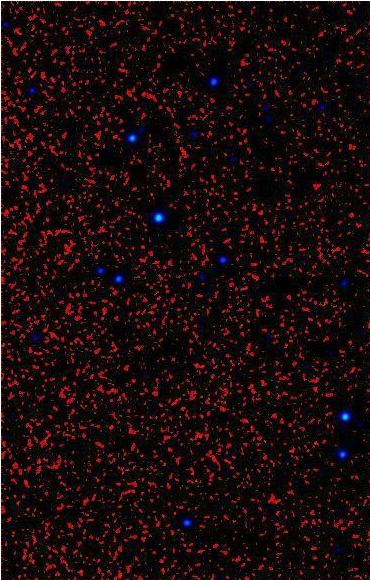star: (332, 402, 362, 432)
